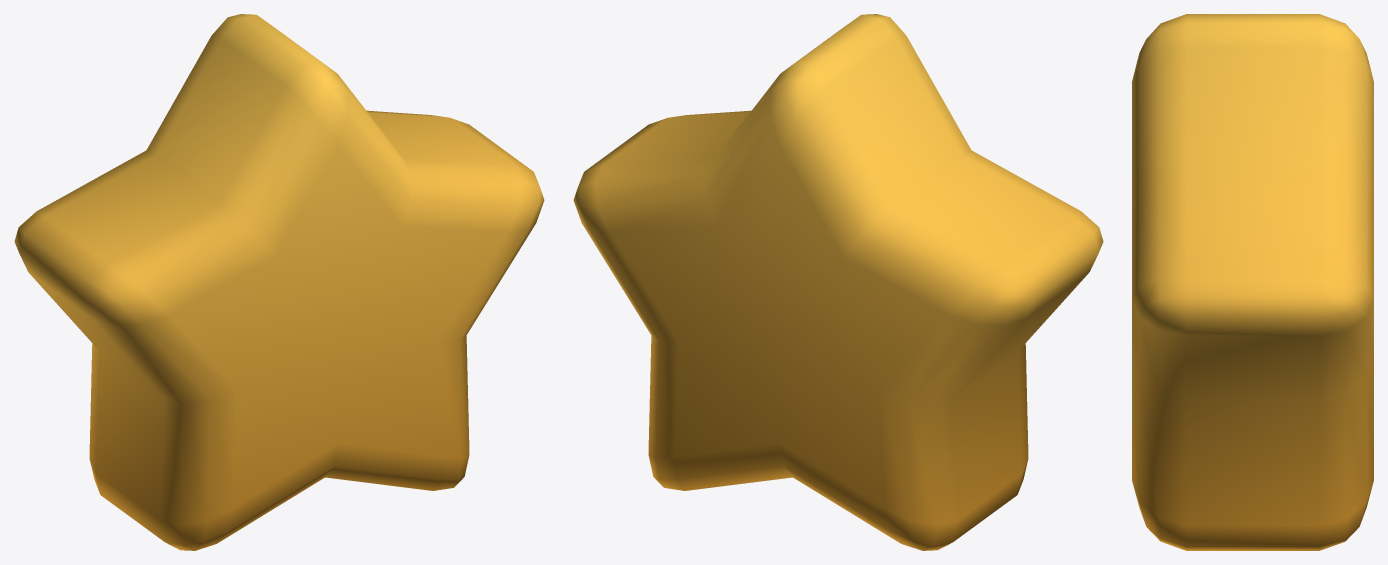
File: start.fbx
3 views of the same model, side by side, from view 1: azimuth 30°, elevation 25°; view 2: azimuth 150°, elevation 25°; view 3: azimuth 270°, elevation 25° (orthographic). The views are drawn at different scales.
Parts seen in each view (by area): view 1: star; view 2: star; view 3: star.
Boxes of the visible parts, <box> form: star: <box>14,14,544,550</box>; star: <box>573,14,1103,550</box>; star: <box>1132,14,1373,550</box>.
Bounding box in the file's own units: 0.9921 × 0.9435 × 0.4436.
Materials: 1 (1 with a texture image).
